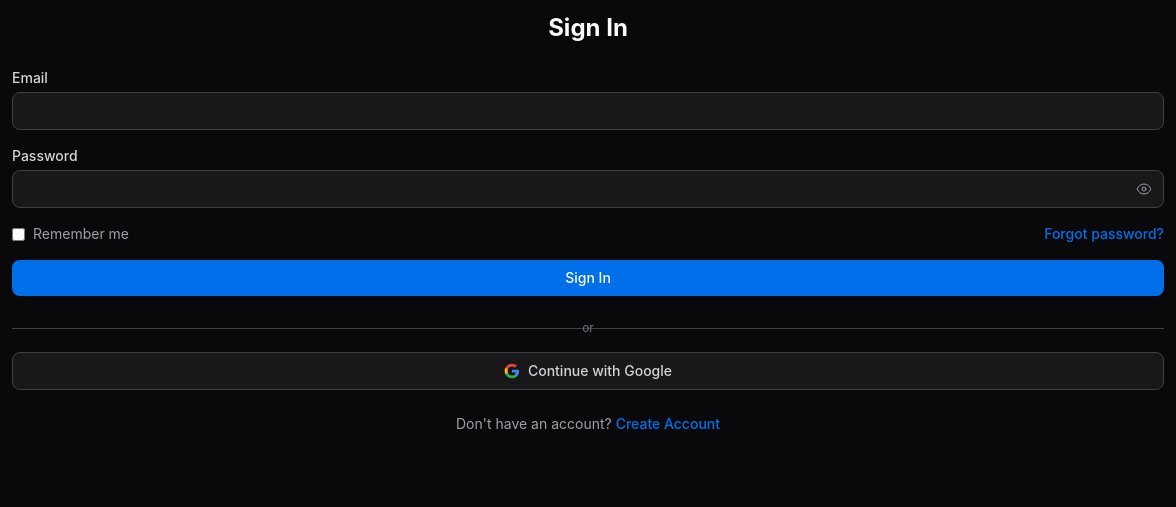
Test: LoginPage › should show generic error for unexpected errors
Type "test@example.com" into the field with id "email" at x=588, y=111, box x1=12 y1=92 x2=1164 y2=130
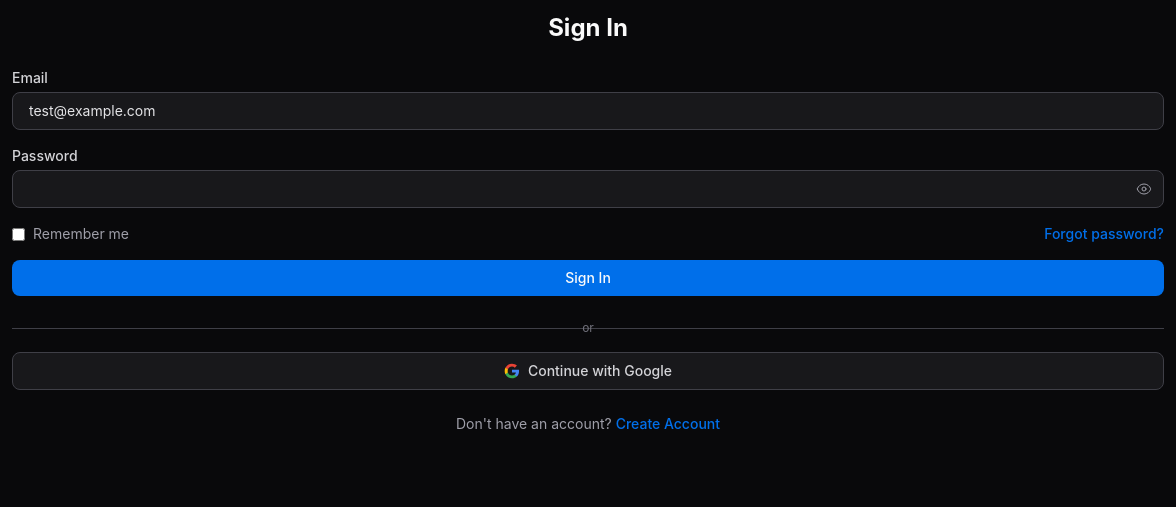
Type "password" into the password field labelled "Password" at x=588, y=189, box x1=12 y1=170 x2=1164 y2=208
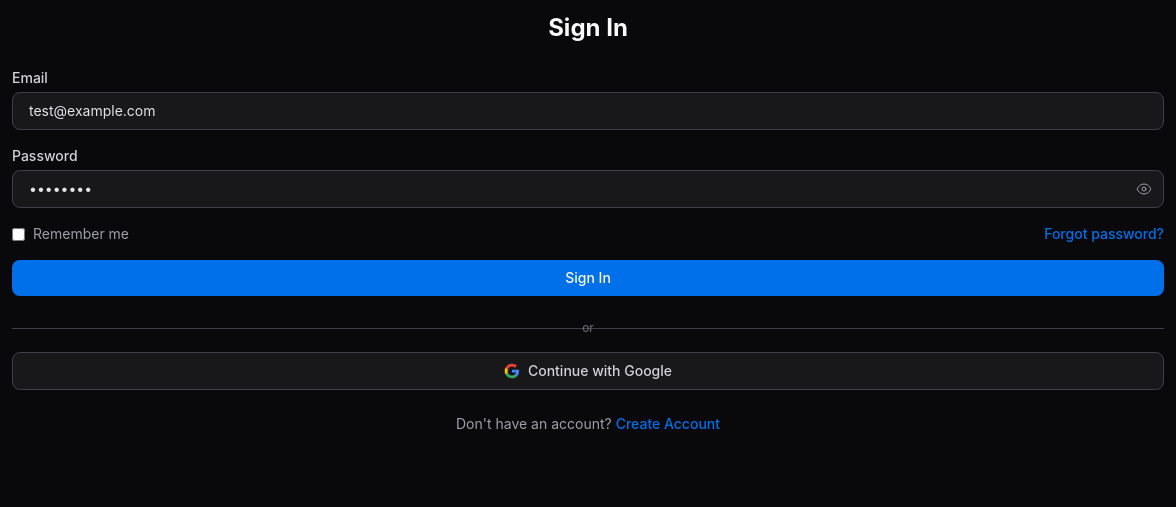
Submit the form, box x1=12 y1=68 x2=1164 y2=296
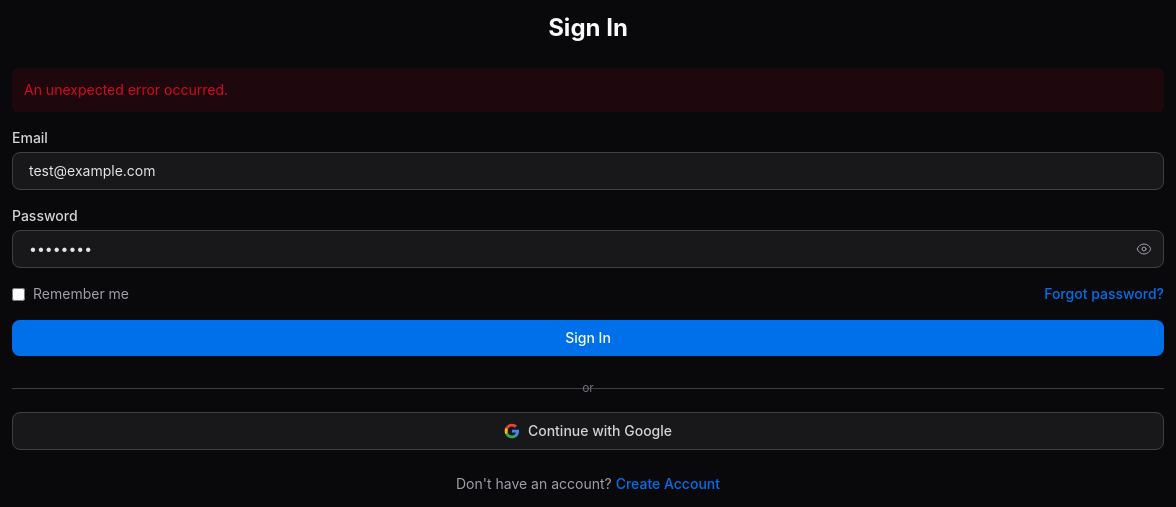
Result: the text "An unexpected error occurred." is shown at x1=12 y1=68 x2=1164 y2=112
